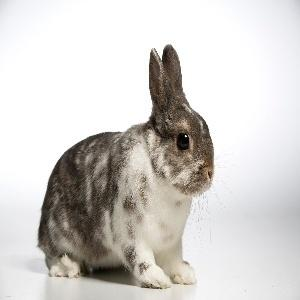rabbit: (37, 45, 215, 290)
